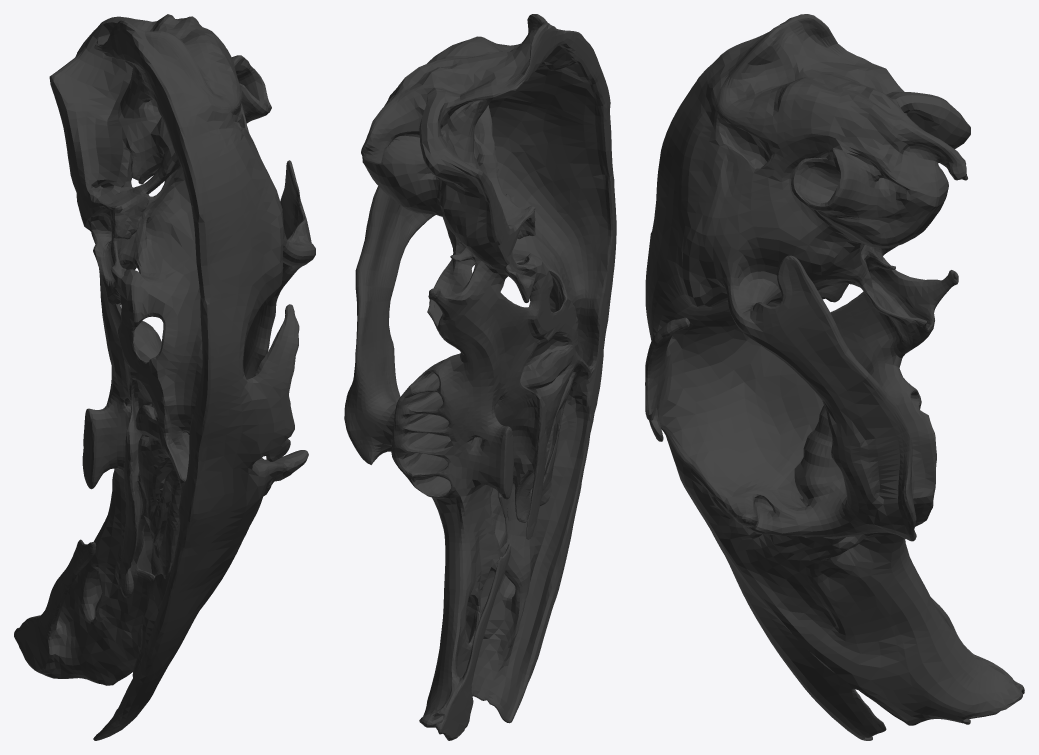
Rendered from SKULL_L_low.glb.
The picture shows the model from 3 angles, left to right: view 1: azimuth 30°, elevation 25°; view 2: azimuth 150°, elevation 25°; view 3: azimuth 270°, elevation 25°; orthographic projection. The views are drawn at different scales.
Visible parts, largest first — view 1: SKULL_L_low; view 2: SKULL_L_low; view 3: SKULL_L_low.
Boxes of the visible parts, x1=… form: SKULL_L_low: x1=14, y1=14, x2=315, y2=740; SKULL_L_low: x1=344, y1=14, x2=616, y2=740; SKULL_L_low: x1=645, y1=14, x2=1024, y2=740.
Size of the model in its own units: 2.15 by 8.43 by 4.01.
Materials: 1 (1 with a texture image).
